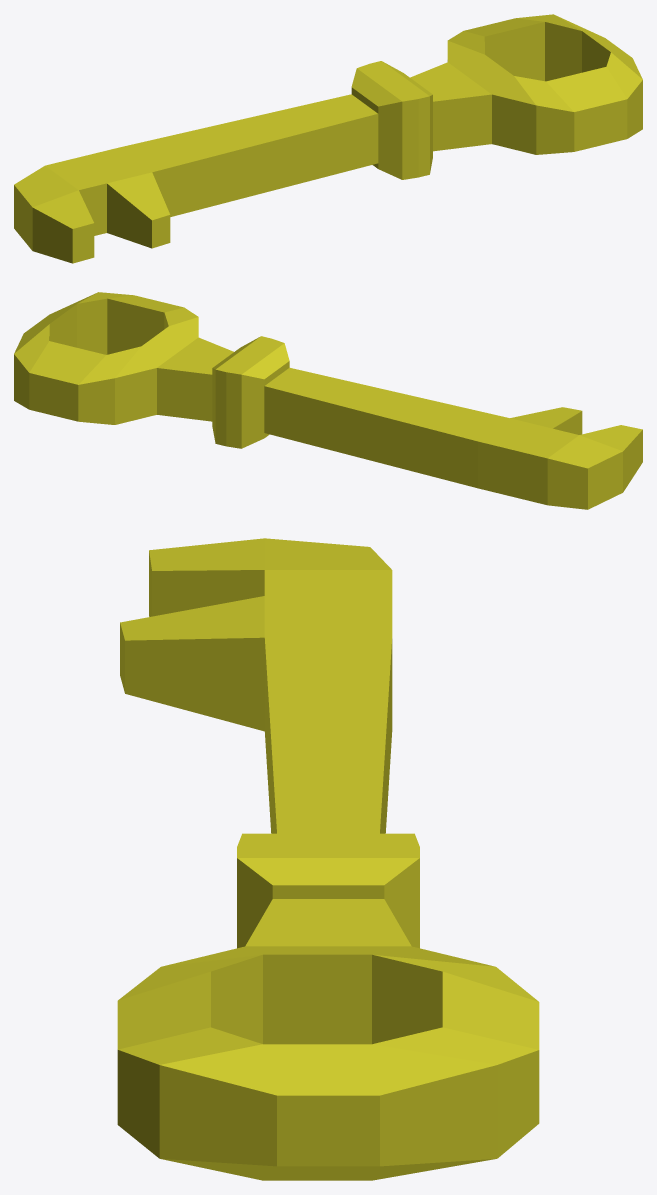
Rendered from key.fbx.
3 renders of one model, top to bottom at view 1: azimuth 30°, elevation 25°; view 2: azimuth 150°, elevation 25°; view 3: azimuth 270°, elevation 25°, orthographic. The views are drawn at different scales.
Visible parts, largest first — view 1: Plane; view 2: Plane; view 3: Plane.
Boxes of the visible parts, left/top/right/bottom form: Plane: left=14, top=14, right=642, bottom=263; Plane: left=14, top=292, right=642, bottom=509; Plane: left=117, top=538, right=539, bottom=1180.
Bounding box in the file's own units: 104 × 13.05 × 33.39.
